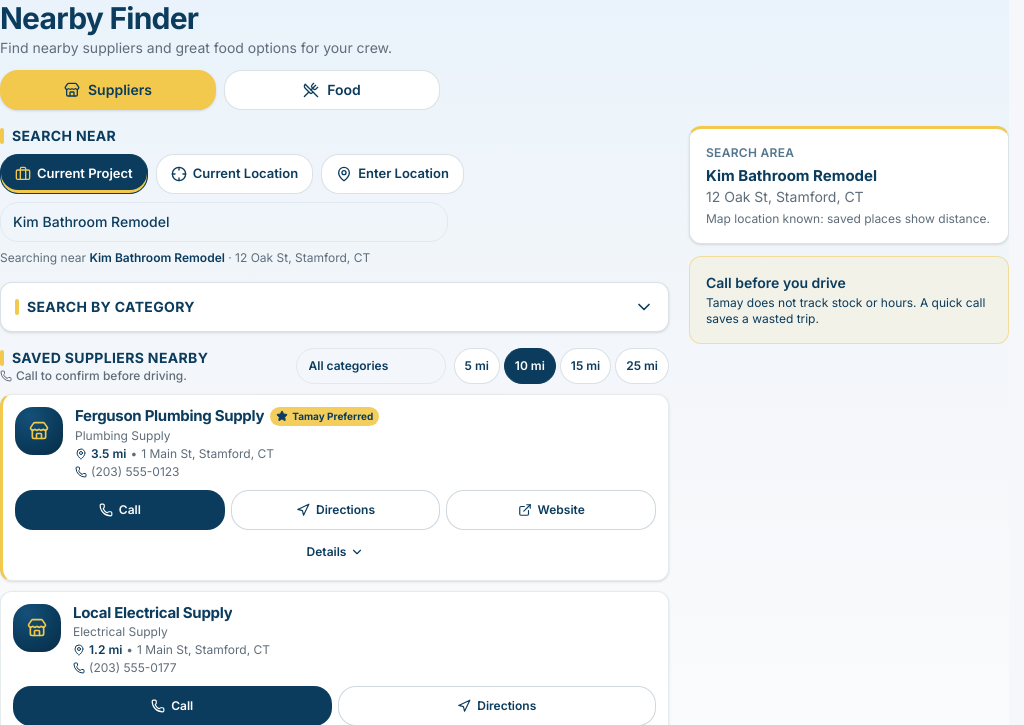
Test: Search Something Specific (inside Search by Category) › hides again when the accordion closes
Click the button "Search by Category" at coordinates (111, 306), box [1,282,668,330]
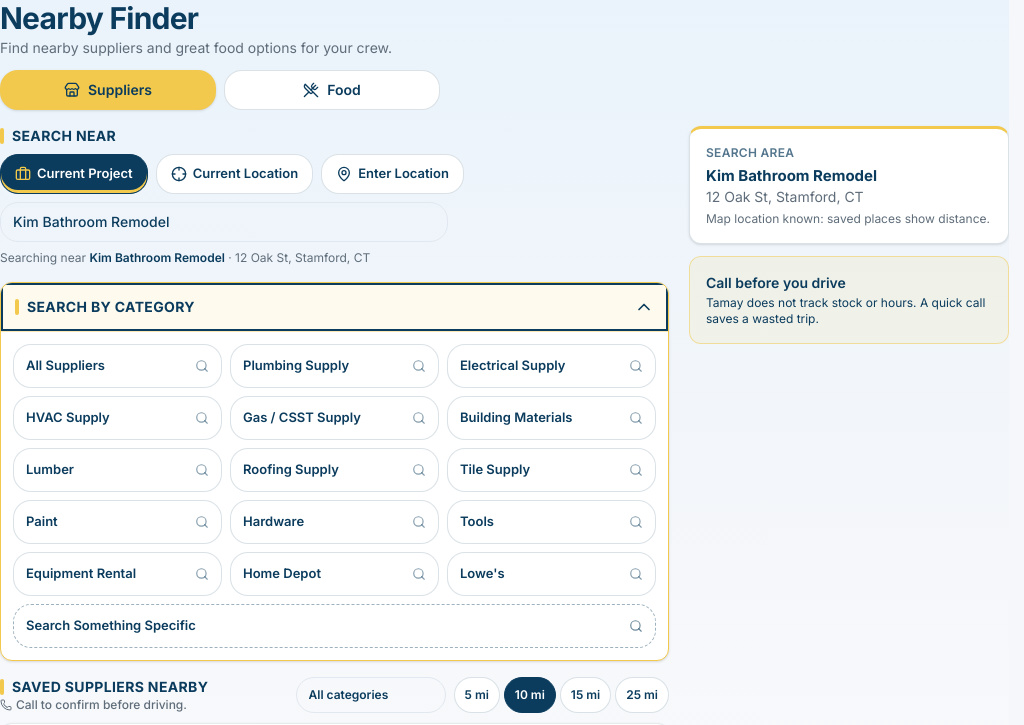
Click the button "Search Something Specific" at coordinates (111, 625), box [13,604,656,648]
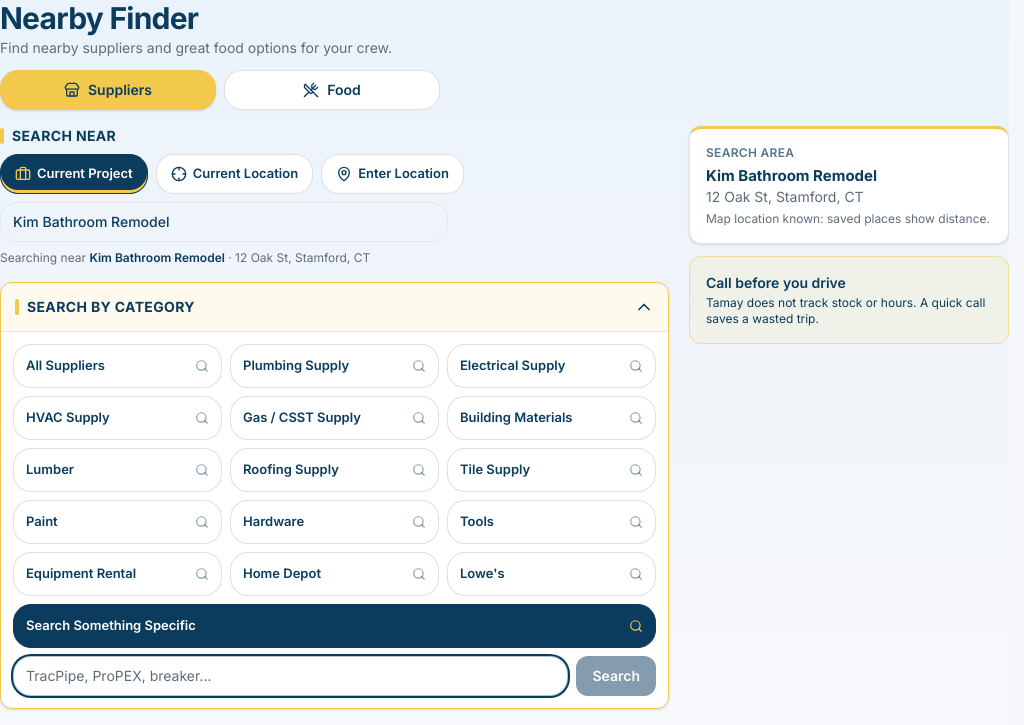
Click the button "Search by Category" at coordinates (111, 306), box [1,282,668,330]
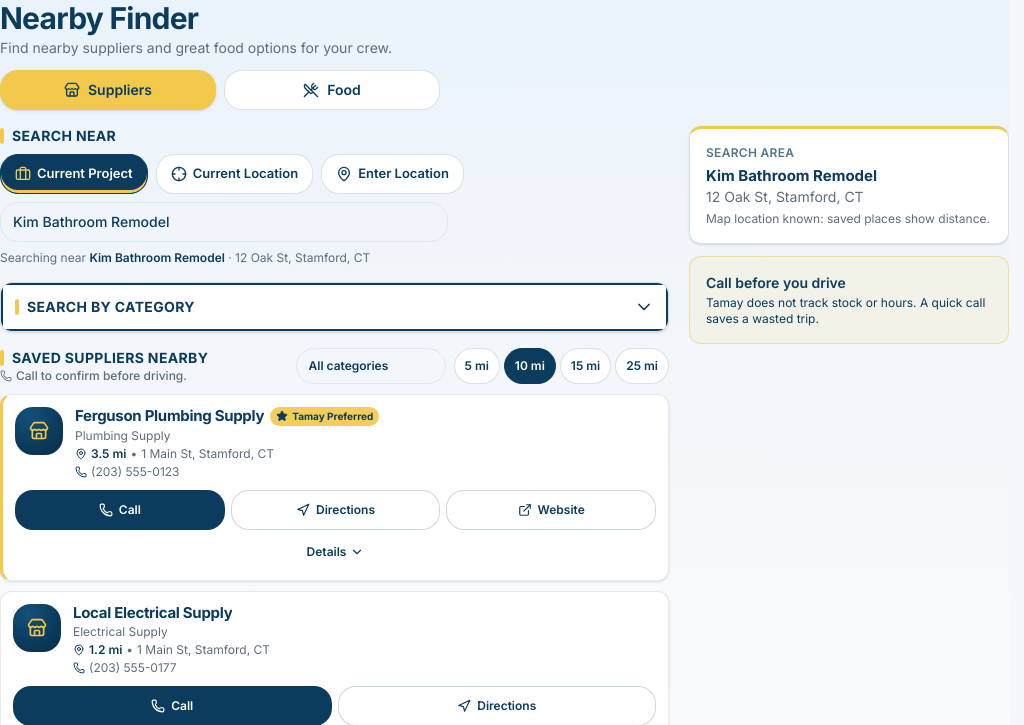
Now the button "Search Something Specific" is gone
